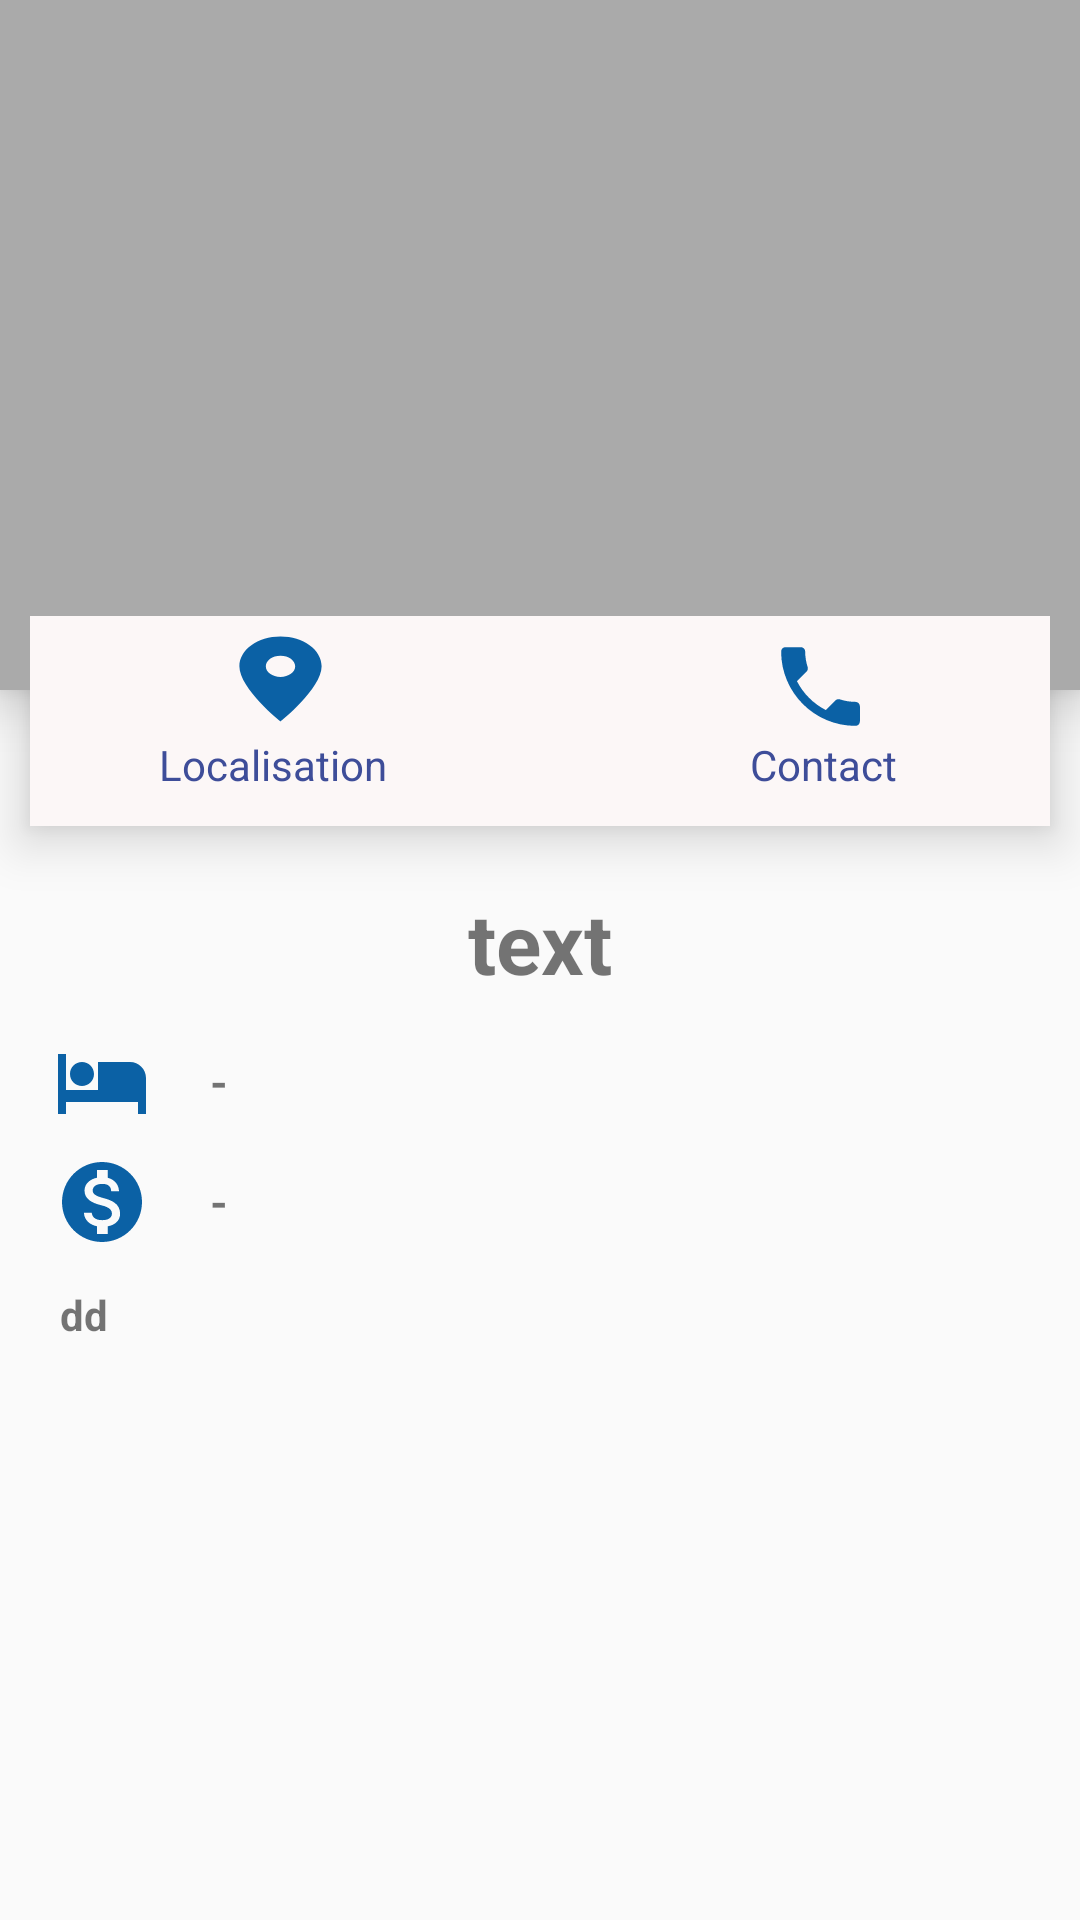

Screen size 1080px x 1920px. Icon name, then its center in pixels as (x=x, y=y):
local hotel: (x=102, y=1084)
local phone: (x=820, y=686)
monetization on: (x=102, y=1202)
place: (x=280, y=679)
